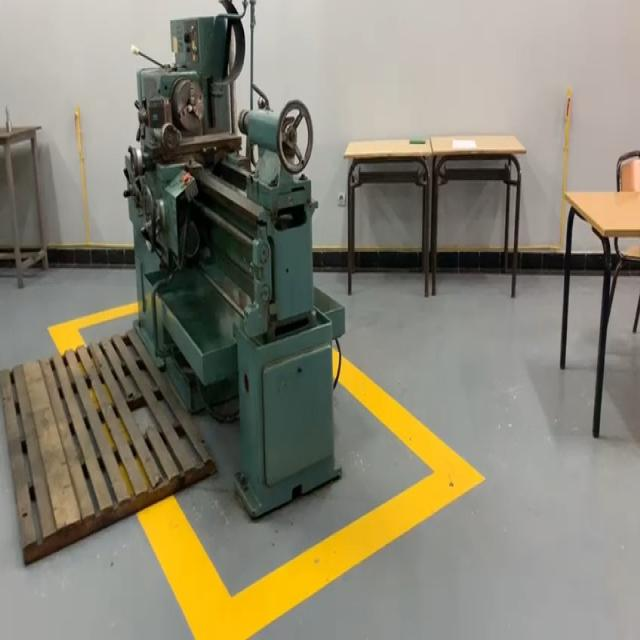tour parallele: (124, 15, 346, 521)
